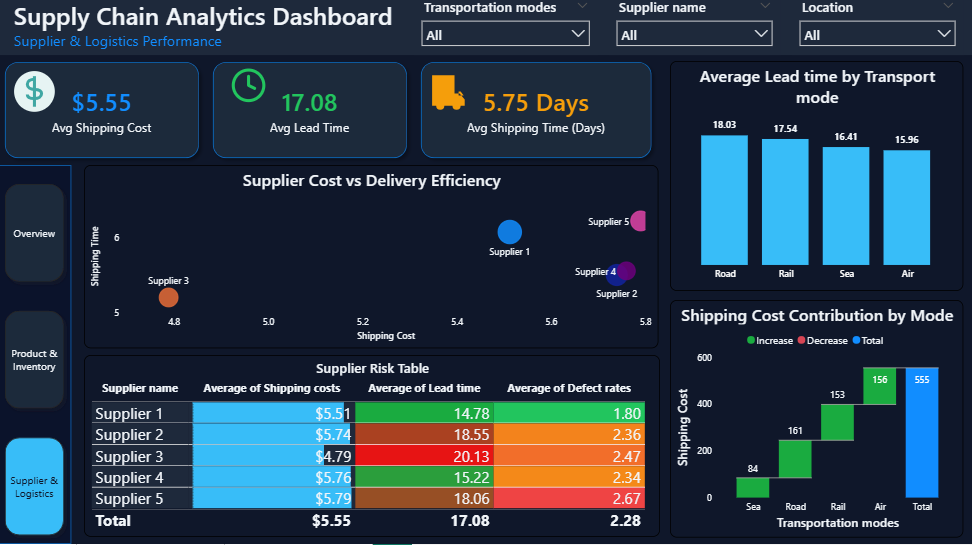

The page's visual inventory and layout, read from the dashboard file:
{"tool":"powerbi","page":{"name":"Supplier & Logistics","canvas":[1280,720],"ordinal":2},"visuals":[{"type":"shape","box":[0,224,96,496],"z":0},{"type":"shape","box":[0,0,1600,80],"z":1000},{"type":"textbox","box":[16,0,512,80],"z":2000},{"type":"pageNavigator","box":[0,240,96,480],"z":3000},{"type":"shape","box":[544,80,320,144],"z":4000},{"type":"cardVisual","fields":{"Data":["location_performance.Avg Shipping Time"]},"box":[560,96,288,112],"z":5000},{"type":"image","box":[560,96,64,64],"z":6000},{"type":"shape","box":[0,80,272,144],"z":7000},{"type":"cardVisual","fields":{"Data":["location_performance.Avg Shipping Cost"]},"box":[16,96,240,112],"z":8000},{"type":"shape","box":[272,80,272,144],"z":9000},{"type":"cardVisual","fields":{"Data":["location_performance.Avg Lead Time"]},"box":[288,96,240,112],"z":10000},{"type":"clusteredColumnChart","title":"Average Lead time by Transport mode","fields":{"Category":["supply_chain_data.Transportation modes"],"Y":["Avg(supply_chain_data.Lead time)"]},"box":[880,88,384,301],"z":11000},{"type":"scatterChart","title":"Supplier Cost vs Delivery Efficiency","fields":{"X":["Avg(supply_chain_data.Shipping costs)"],"Y":["Avg(supply_chain_data.Shipping times)"],"Size":["Sum(supply_chain_data.Revenue generated)"],"Series":["supply_chain_data.Supplier name"]},"box":[112,224,752,240],"z":12000},{"type":"waterfallChart","title":"Shipping Cost Contribution by Mode","fields":{"Category":["supply_chain_data.Transportation modes"],"Y":["Sum(supply_chain_data.Shipping costs)"]},"box":[880,400,384,311],"z":13000},{"type":"tableEx","title":"Supplier Risk Table","fields":{"Values":["supply_chain_data.Supplier name","Avg(supply_chain_data.Shipping costs)","Avg(supply_chain_data.Lead time)","Avg(supply_chain_data.Defect rates)"]},"box":[112,473,754,238],"z":14000},{"type":"image","box":[16,96,64,64],"z":15000},{"type":"image","box":[288,96,80,48],"z":16000},{"type":"slicer","title":"Product Type","fields":{"Values":["supply_chain_data.Supplier name"]},"box":[800,0,224,80],"z":17000},{"type":"slicer","title":"Product Type","fields":{"Values":["supply_chain_data.Transportation modes"]},"box":[544,0,240,80],"z":18000},{"type":"slicer","title":"Product Type","fields":{"Values":["supply_chain_data.Location"]},"box":[1040,0,224,80],"z":19000}]}

Visuals, with their boxes in screenshot pixels (x1, y1, x2, y2), scaled from the page's 1280x720 canvas onto the 972x545 screenshot:
shape: select_region(0, 170, 73, 544)
shape: select_region(0, 0, 971, 61)
textbox: select_region(12, 0, 401, 61)
pageNavigator: select_region(0, 182, 73, 544)
shape: select_region(413, 61, 656, 170)
cardVisual - location_performance.Avg Shipping Time: select_region(425, 73, 644, 157)
image: select_region(425, 73, 474, 121)
shape: select_region(0, 61, 207, 170)
cardVisual - location_performance.Avg Shipping Cost: select_region(12, 73, 194, 157)
shape: select_region(207, 61, 413, 170)
cardVisual - location_performance.Avg Lead Time: select_region(219, 73, 401, 157)
"Average Lead time by Transport mode" clusteredColumnChart: select_region(668, 67, 960, 294)
"Supplier Cost vs Delivery Efficiency" scatterChart: select_region(85, 170, 656, 351)
"Shipping Cost Contribution by Mode" waterfallChart: select_region(668, 303, 960, 538)
"Supplier Risk Table" tableEx: select_region(85, 358, 658, 538)
image: select_region(12, 73, 61, 121)
image: select_region(219, 73, 279, 109)
"Product Type" slicer: select_region(608, 0, 778, 61)
"Product Type" slicer: select_region(413, 0, 595, 61)
"Product Type" slicer: select_region(790, 0, 960, 61)
